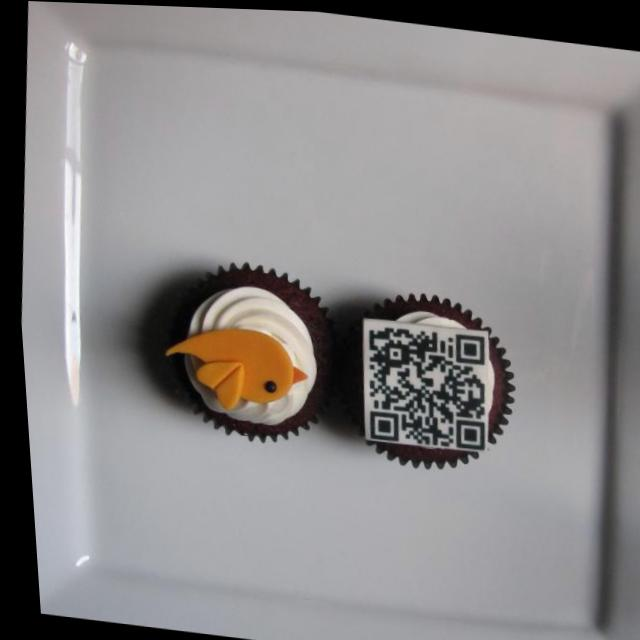qrcode: (354, 320, 489, 449)
